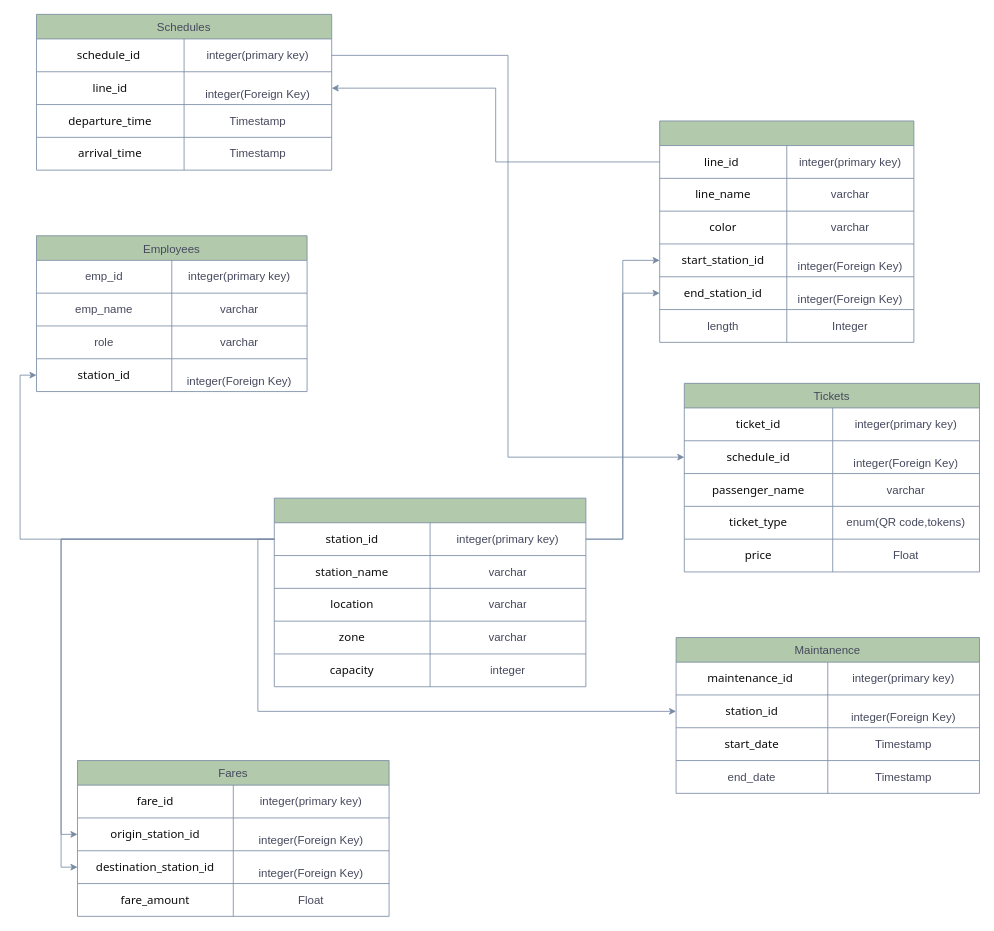
Image size: 994x931. Some labels were removed from this diagram. The shapes that lost their labels are listed below. From the top down, each one's box as (x1, y1, x2, y2) in pixels, then its label:
(659, 120, 914, 342): Lines
(273, 497, 586, 687): Stations
